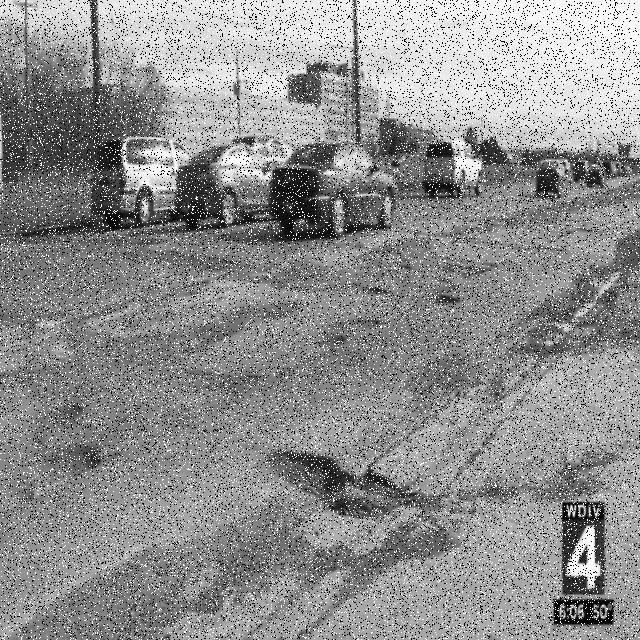pothole: (272, 453, 416, 521), (35, 450, 96, 492)
